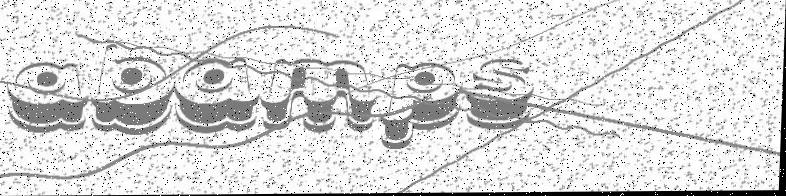a: (174, 55, 261, 135), (6, 61, 91, 134)
b: (90, 42, 176, 137)
m: (259, 58, 380, 133)
p: (380, 62, 461, 151)
s: (464, 60, 536, 131)
